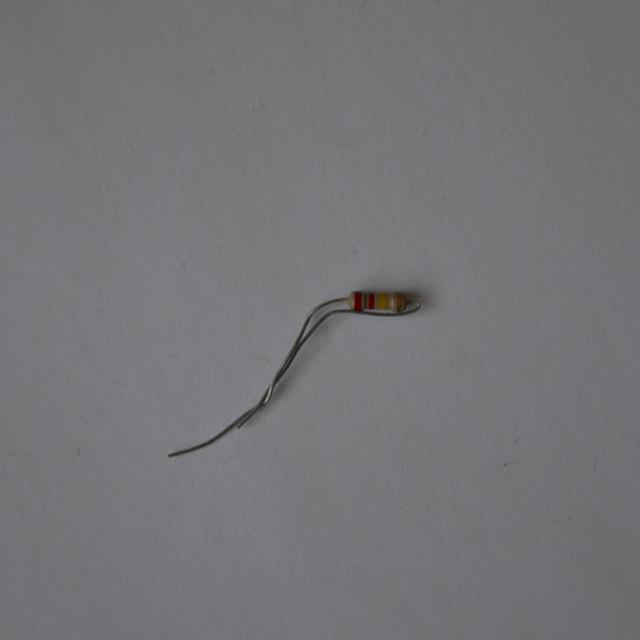gold: (396, 291, 403, 309)
red: (355, 291, 361, 310), (368, 293, 373, 308)
resistor: (341, 282, 414, 316)
yellow: (379, 293, 386, 308)
